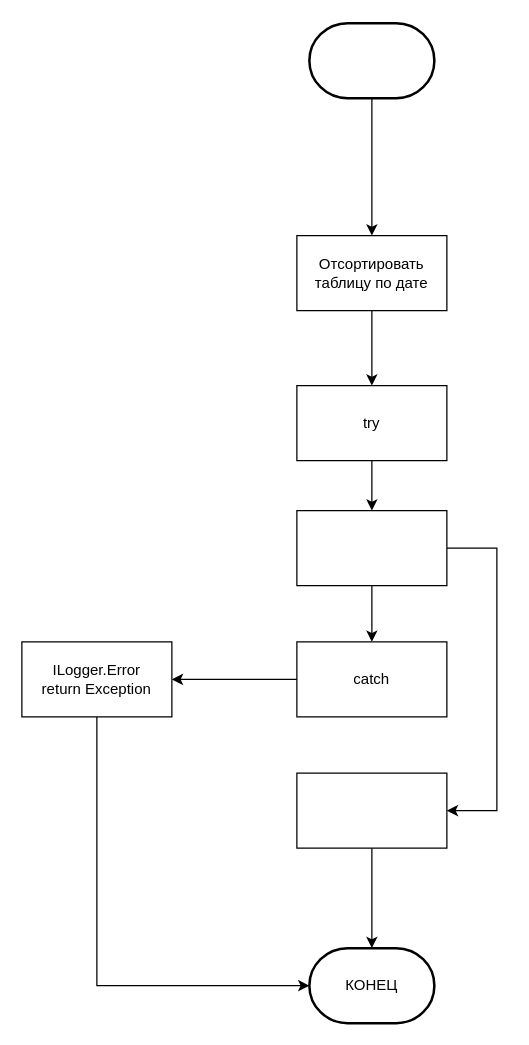
Image size: 529x1045. Some labels were removed from this diagram. Each missing label, with the box of its shape:
ILogger.Info Вернуть результат: (296, 772, 447, 848)
НАЧАЛО: (308, 21, 435, 99)
Получить последнее состояние: (296, 509, 447, 586)
